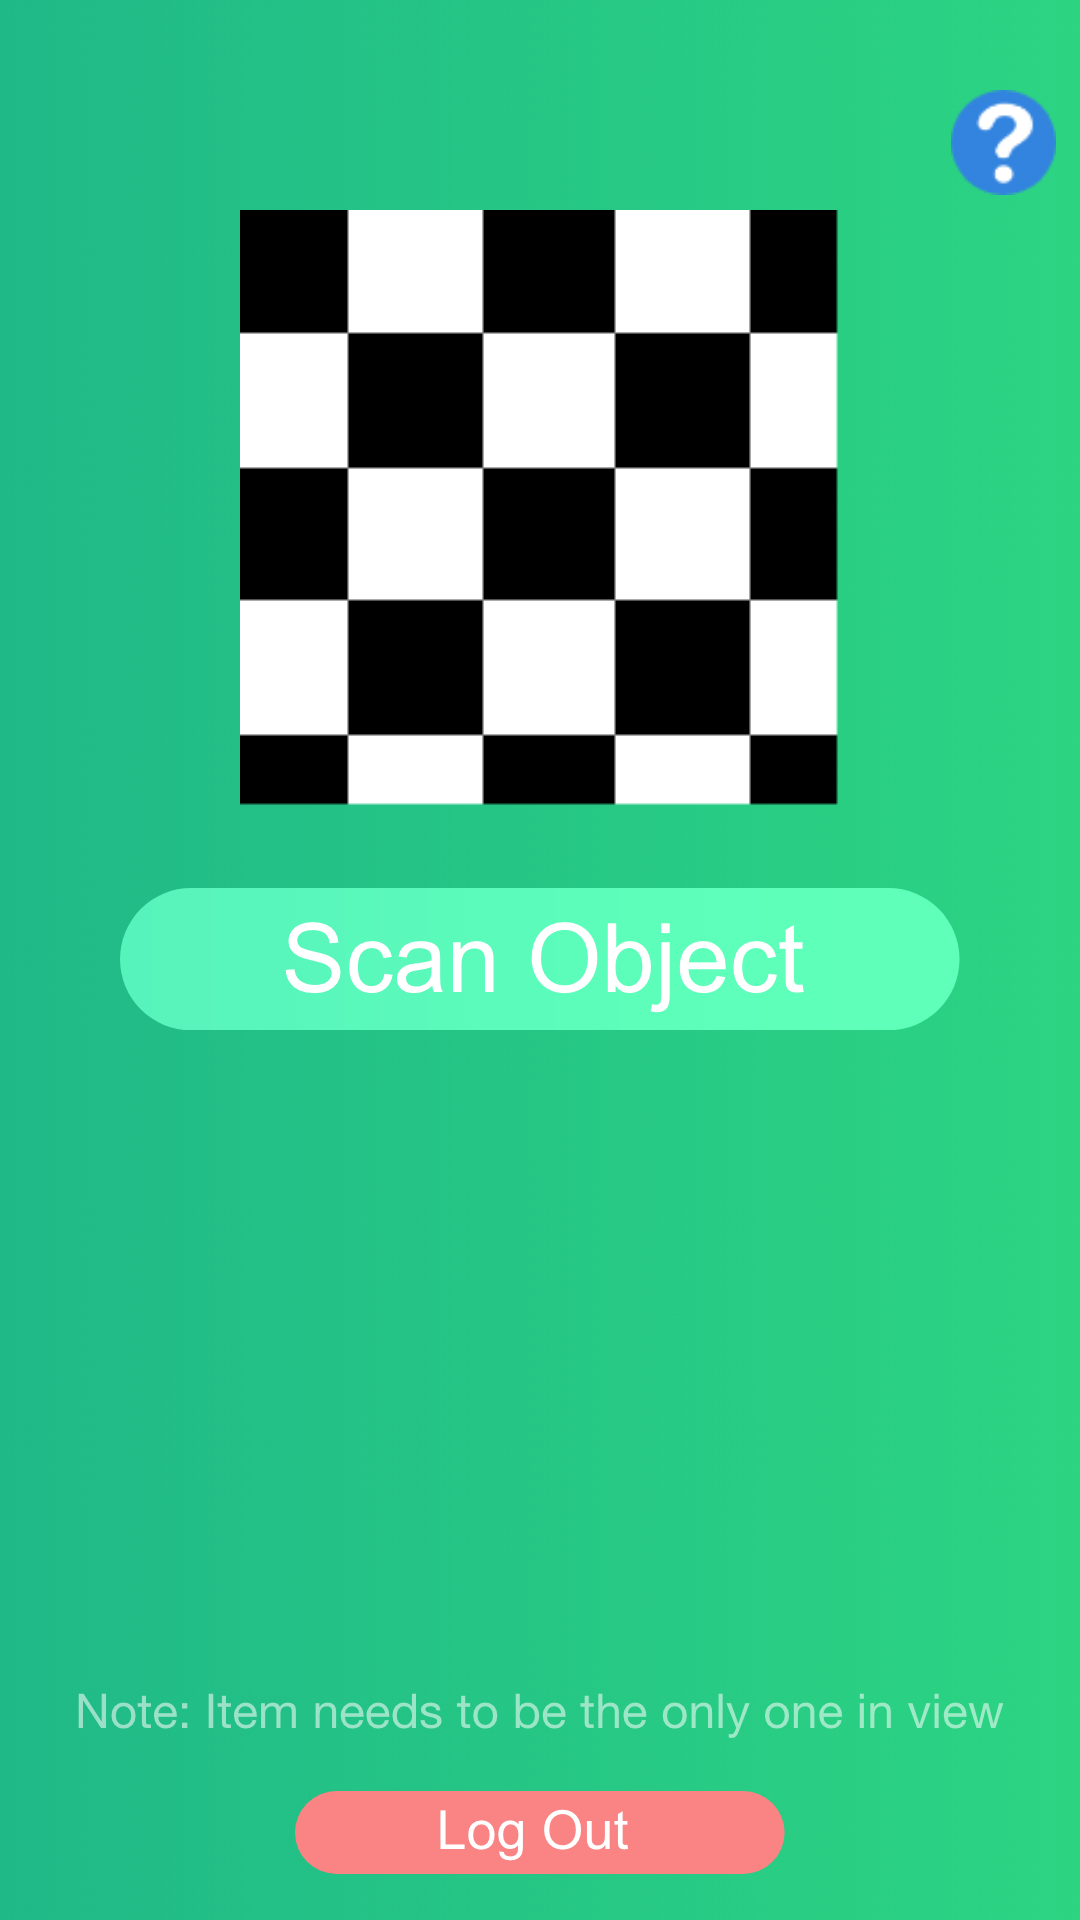

Icons on this 1080w x 1920h Android screen, each with the point to tap as point (x, y):
help: point (1003, 142)
